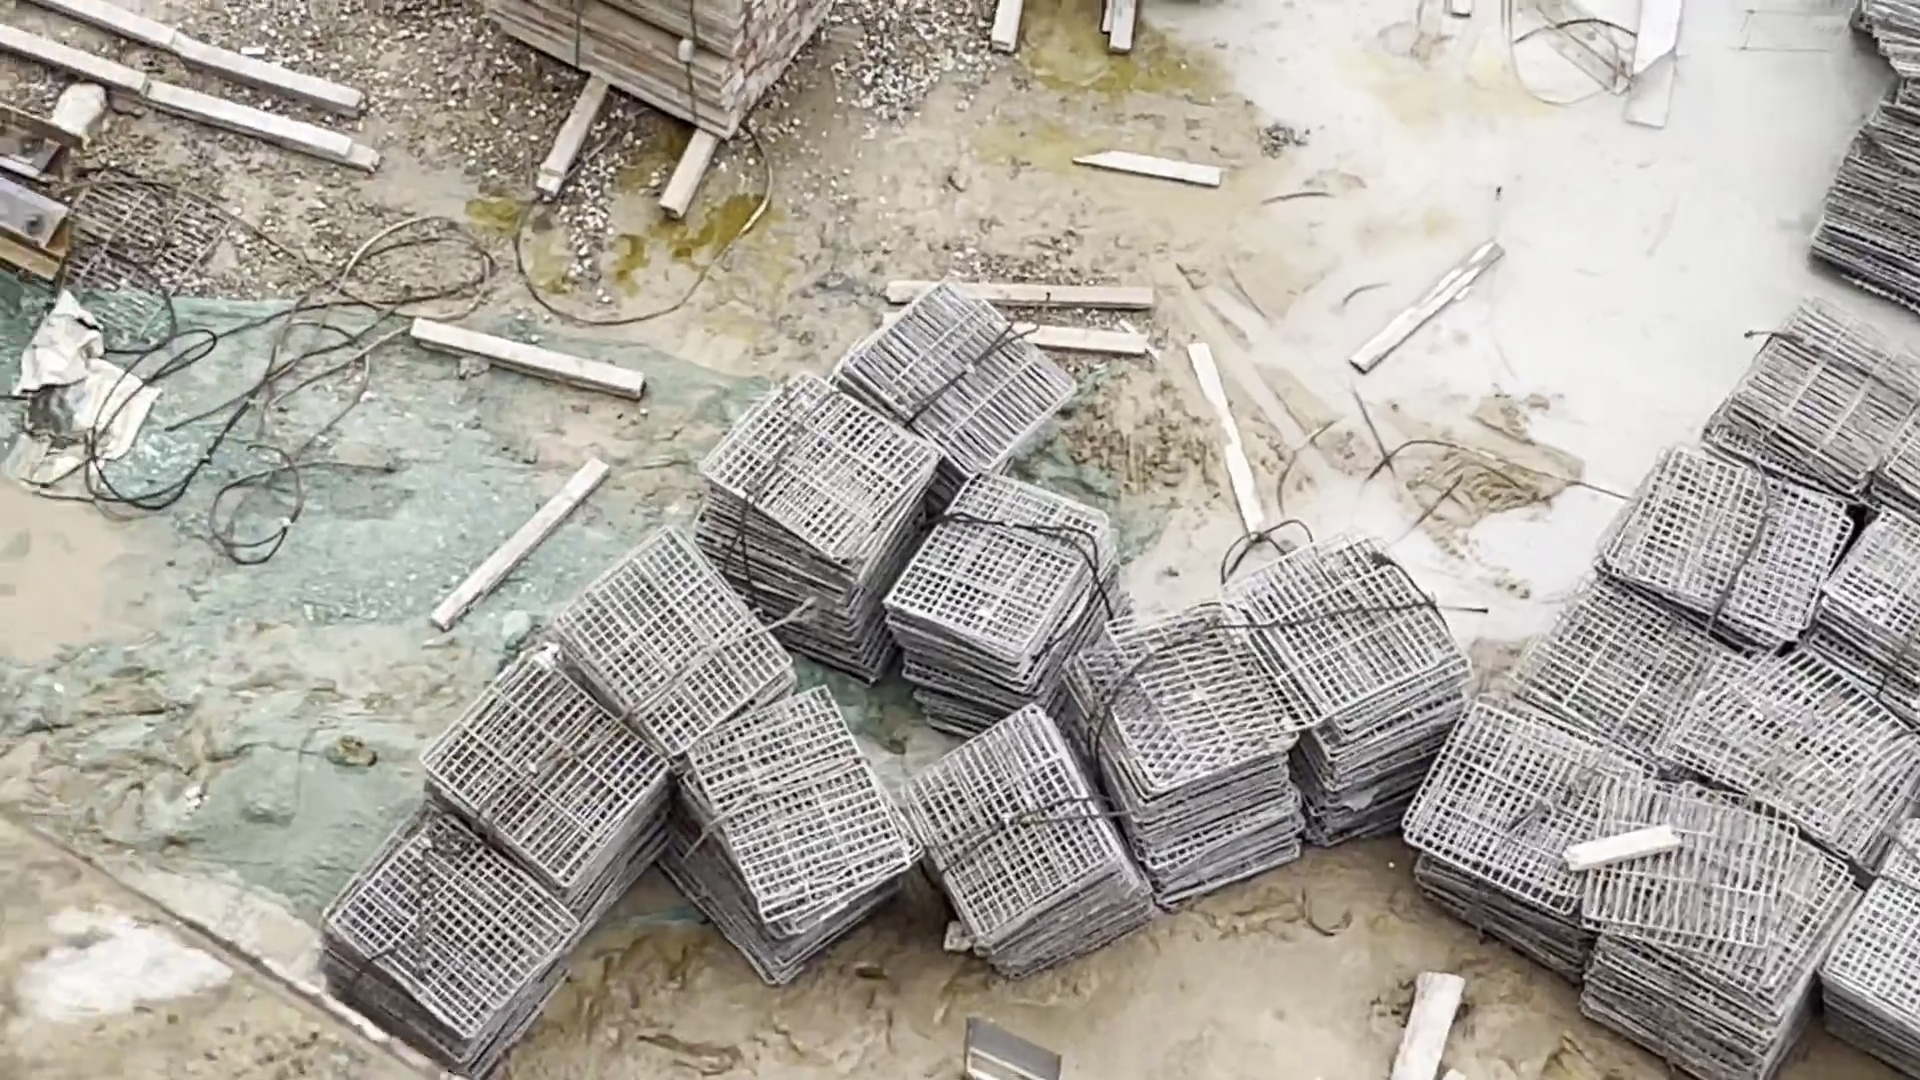wood: (487, 1, 841, 241)
